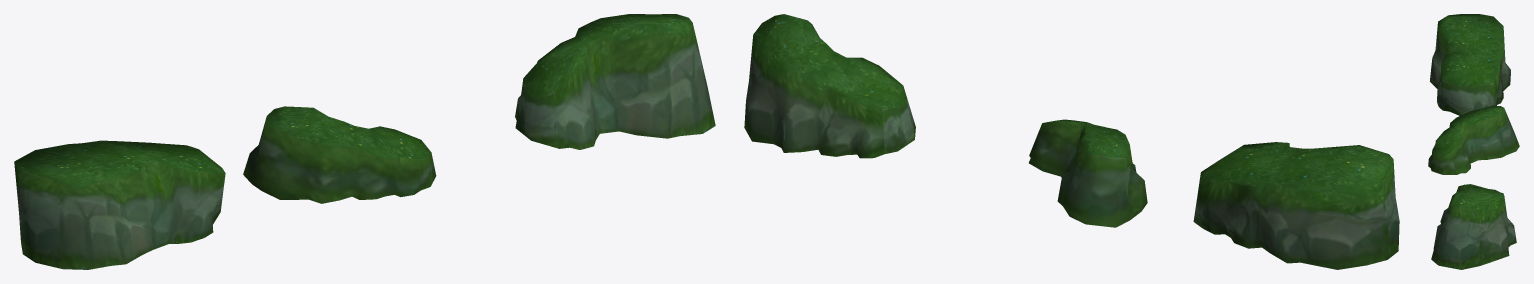
The model's file is ShiTouZu.FBX.
3 renders of one model, left to right at view 1: azimuth 30°, elevation 25°; view 2: azimuth 150°, elevation 25°; view 3: azimuth 270°, elevation 25°, orthographic. The views are drawn at different scales.
Parts seen in each view (by area): view 1: Object015, Object017, Object016; view 2: Object015, Object017, Object016; view 3: Object015, Object017, Object016.
Part boxes in pixels (x1,y1,x2,y2): Object015: (14, 140, 225, 269); Object017: (515, 14, 715, 149); Object016: (243, 106, 436, 203); Object015: (1193, 142, 1399, 269); Object017: (744, 14, 915, 158); Object016: (1029, 119, 1147, 227); Object015: (1430, 14, 1510, 115); Object017: (1431, 184, 1516, 269); Object016: (1428, 105, 1519, 174).
Bounding box in the file's own units: 779 × 150 × 111.
